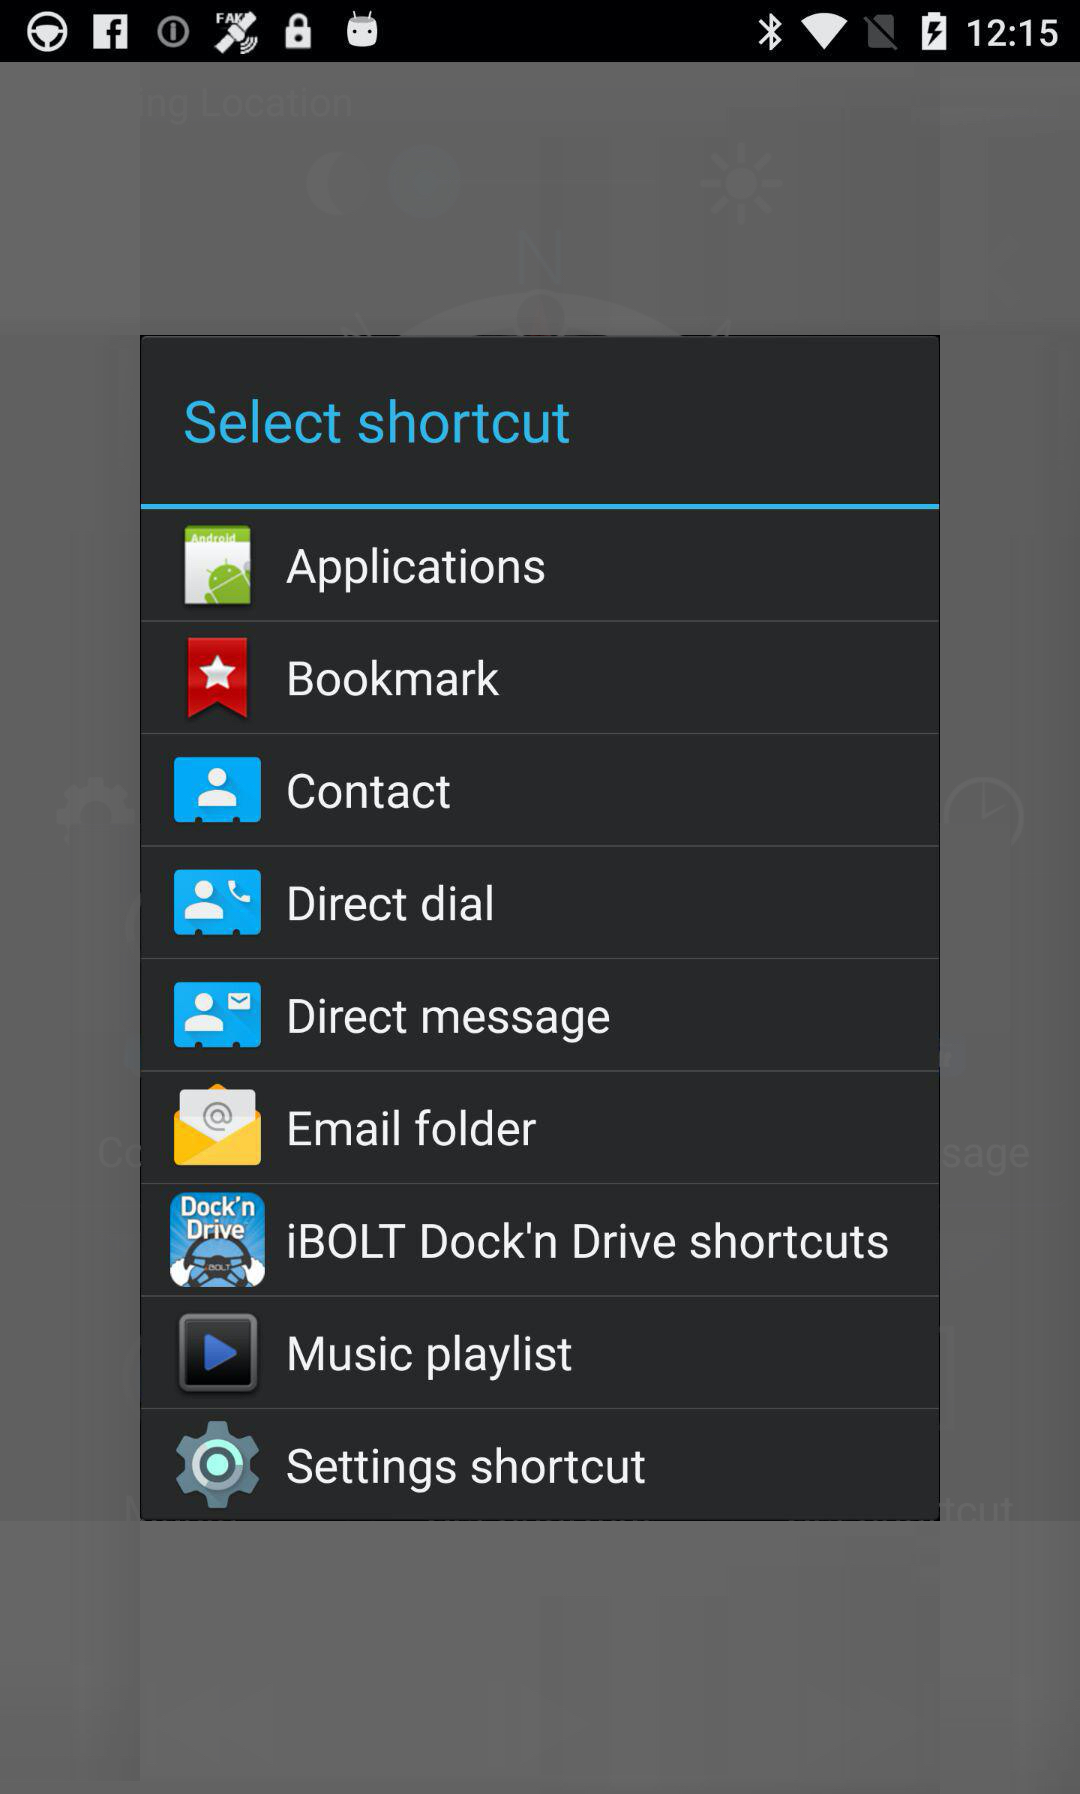Icon: (176, 1421, 263, 1510), (179, 1312, 260, 1395), (174, 982, 263, 1049), (174, 757, 263, 824), (174, 869, 263, 935), (188, 637, 249, 721)
Image: (170, 1190, 266, 1288), (174, 1084, 263, 1166), (184, 525, 252, 606)
Modal: (141, 336, 940, 1521)
Text: (288, 1222, 889, 1260), (184, 399, 571, 446), (288, 1447, 644, 1494), (288, 998, 611, 1044), (290, 1334, 573, 1381), (284, 547, 546, 595), (288, 1108, 539, 1147), (288, 659, 500, 698), (288, 883, 495, 923), (287, 771, 452, 811)
UpperTaskBar: (1, 1, 1080, 64)
